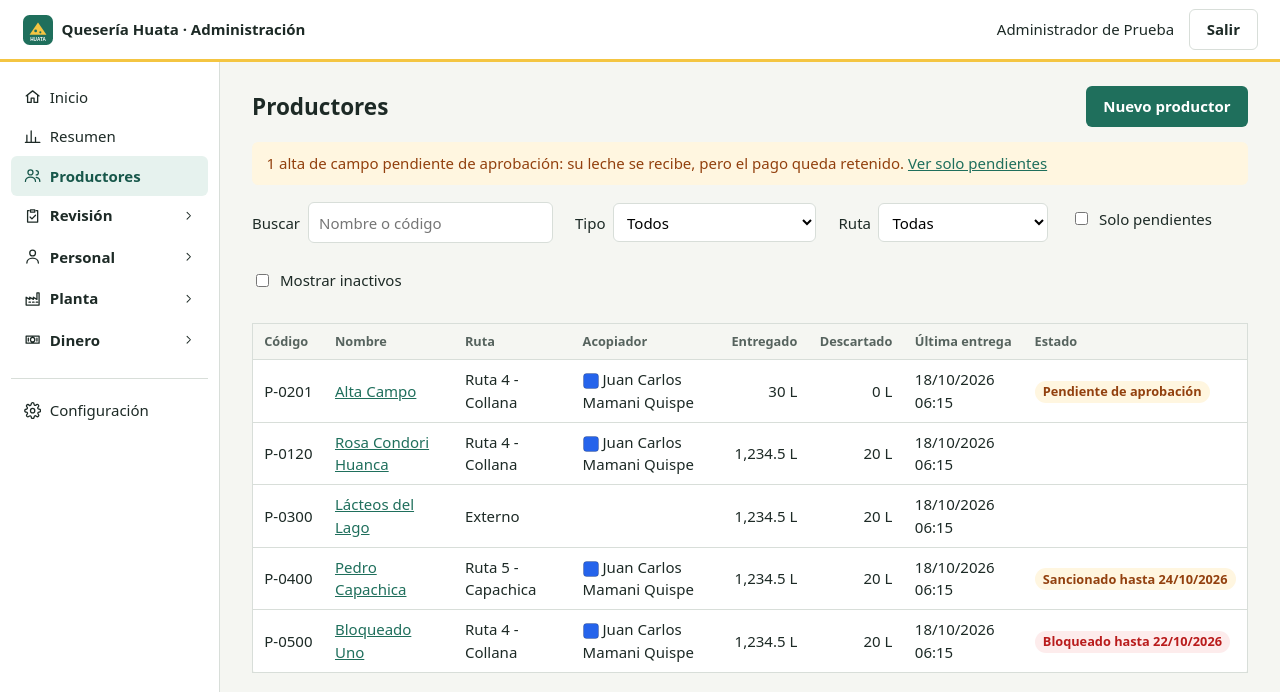
Test: lista de productores › avisa cuántas altas están pendientes y permite ver solo esas; no se aprueba desde la lista
Check: the text "1 alta de campo pendiente de aprobación" is shown, box [252, 142, 1248, 184]
Click the button "Ver solo pendientes" at coordinates (978, 163), box [908, 152, 1047, 174]
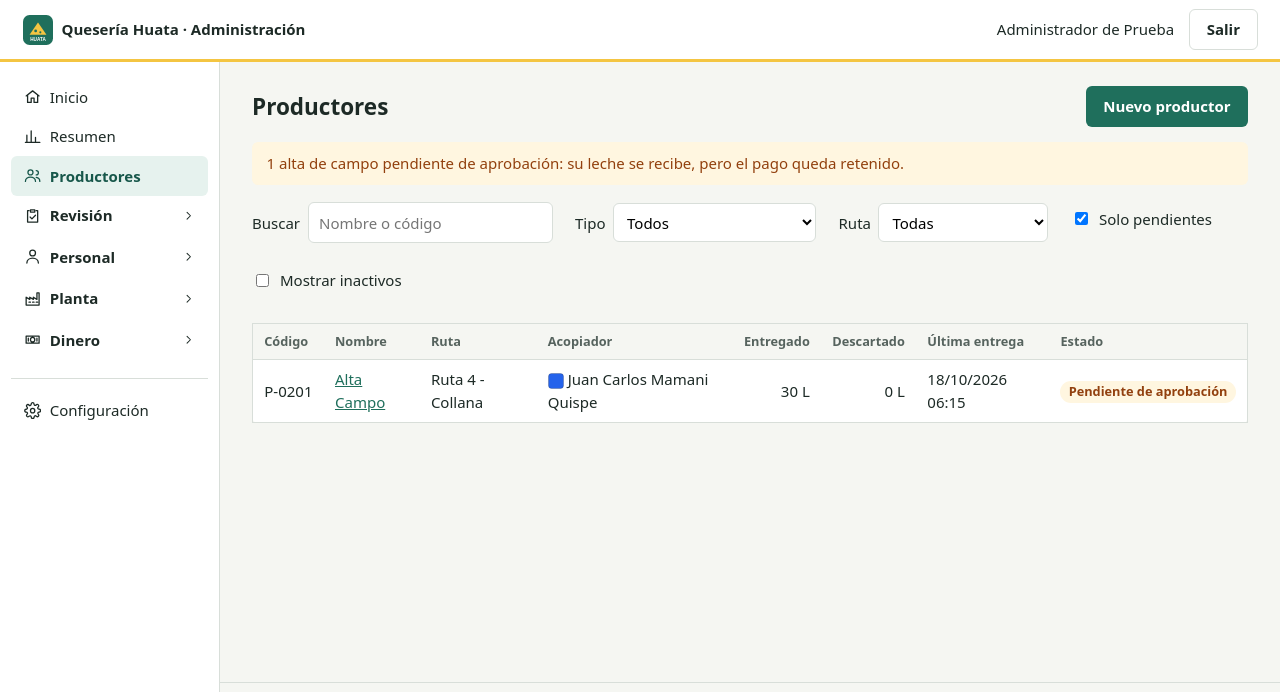
Check: the checkbox labelled "Solo pendientes" is checked, box [1075, 212, 1088, 225]
